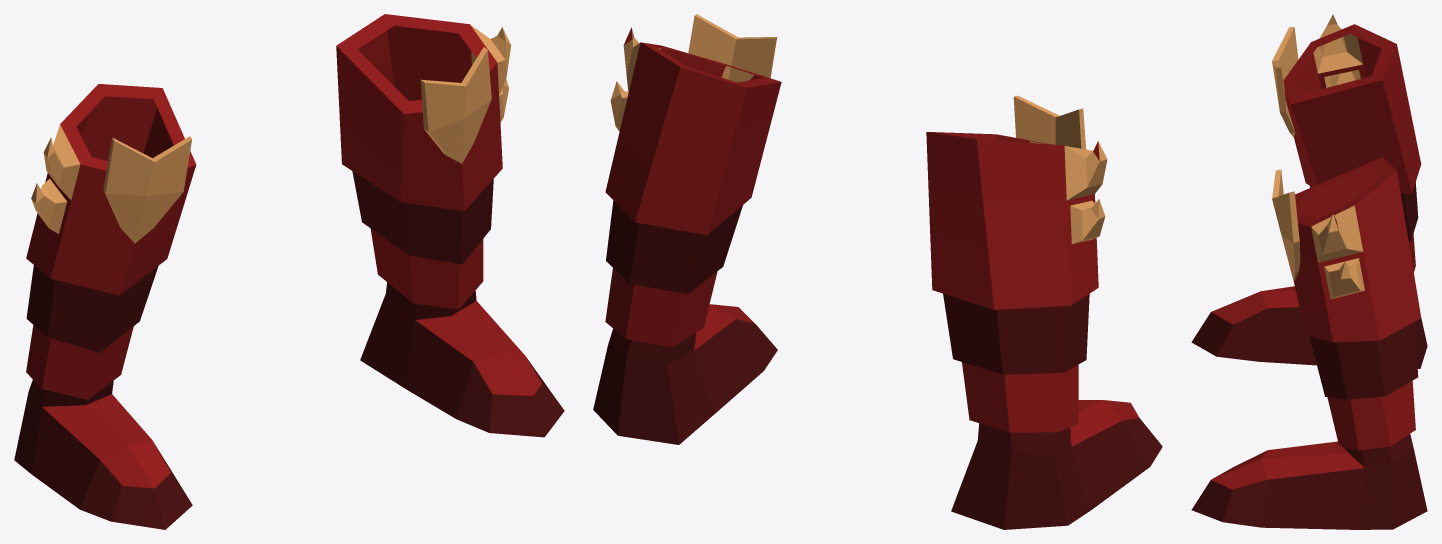
The model's file is dragon_boots.gltf.
The picture shows the model from 3 angles, left to right: view 1: azimuth 30°, elevation 25°; view 2: azimuth 150°, elevation 25°; view 3: azimuth 270°, elevation 25°; orthographic projection. The views are drawn at different scales.
Parts seen in each view (by area): view 1: dragon_boots; view 2: dragon_boots; view 3: dragon_boots.
Boxes of the visible parts, x1=… form: dragon_boots: x1=14, y1=14, x2=564, y2=529; dragon_boots: x1=593, y1=14, x2=1162, y2=529; dragon_boots: x1=1191, y1=14, x2=1427, y2=529.
Size of the model in its own units: 2.62 by 1.9 by 1.25.
